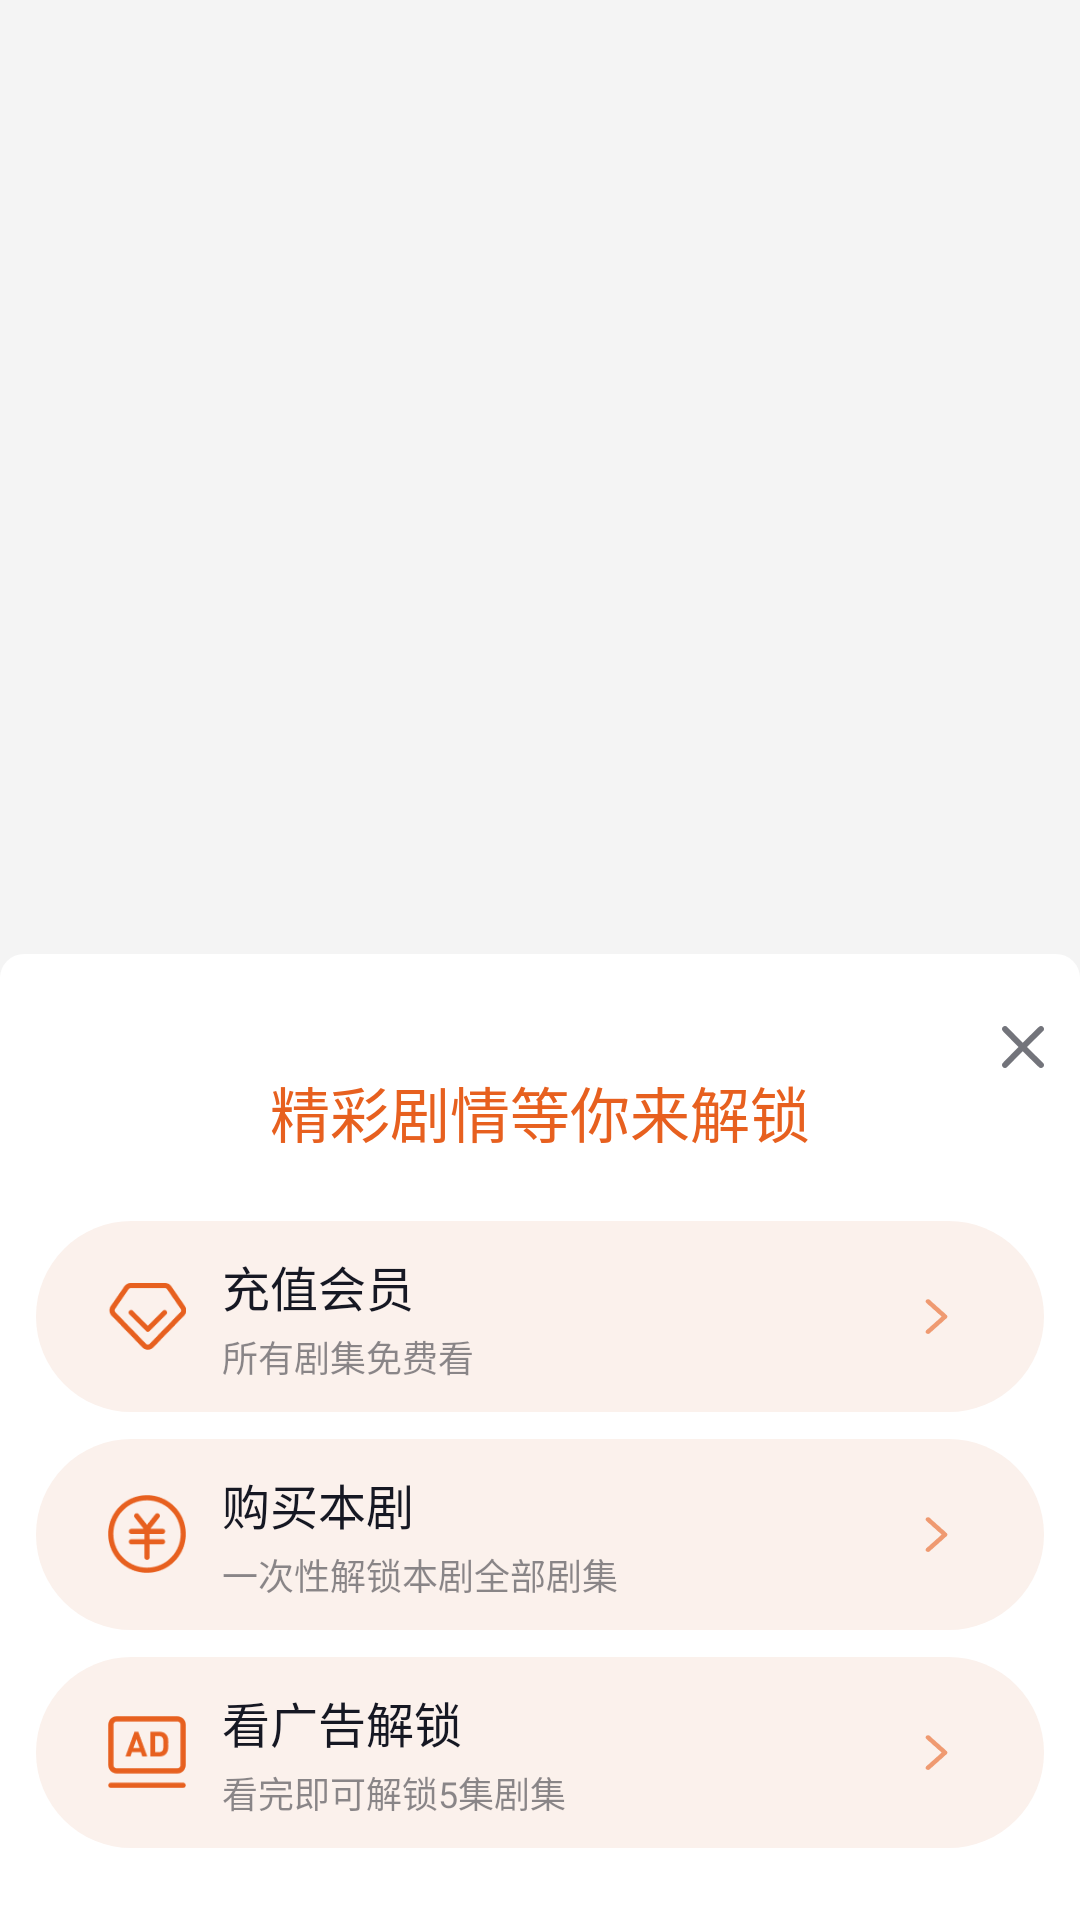

Icon bounding boxes for this 1080×1920 phone screenshot, format bbox=(x1, y1, x2, y2):
lock ad: bbox=(108, 1716, 186, 1788)
lock arrow: bbox=(925, 1299, 948, 1334), bbox=(925, 1517, 948, 1552), bbox=(925, 1735, 948, 1770)
lock close: bbox=(1002, 1026, 1044, 1068)
lock money: bbox=(108, 1495, 186, 1573)
lock vip: bbox=(109, 1283, 186, 1350)
